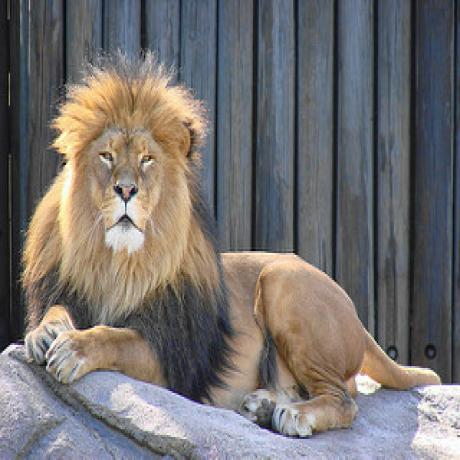Lion: (25, 59, 438, 436)
